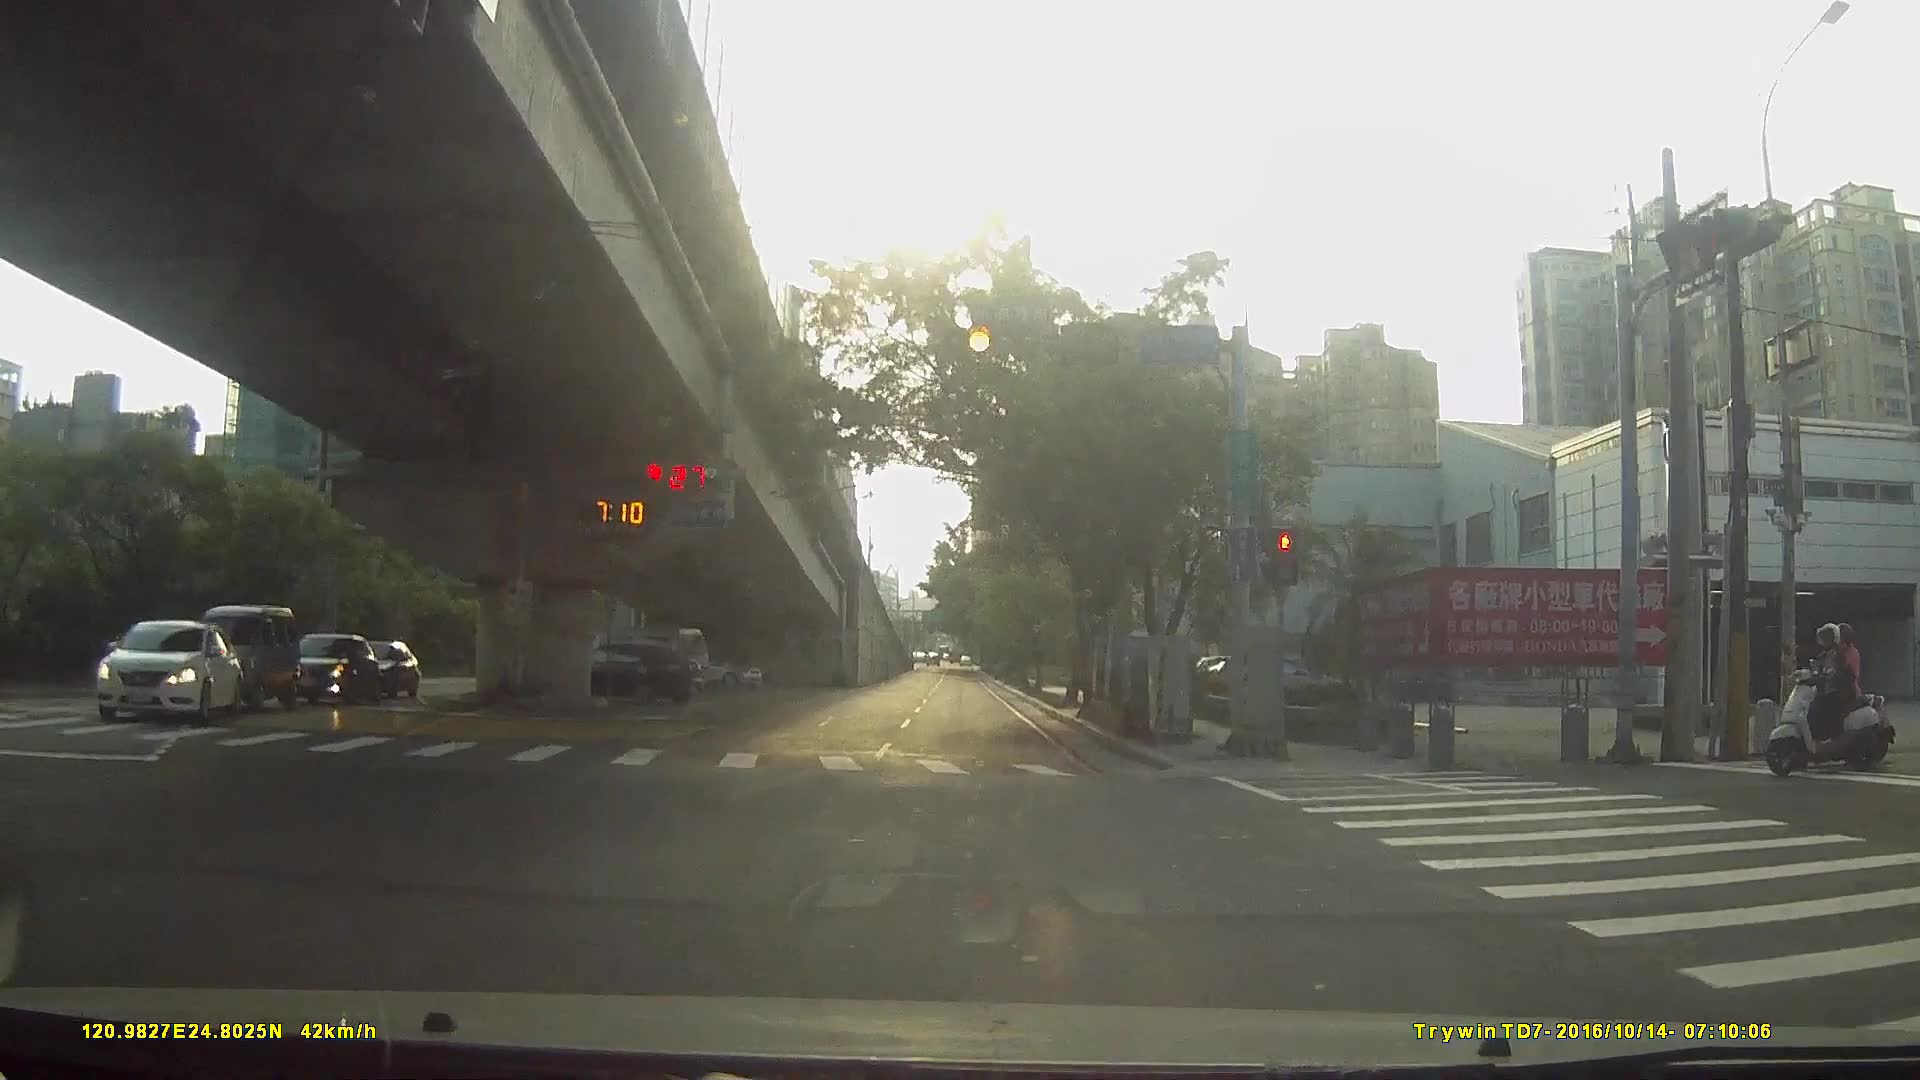rider: (1766, 627, 1892, 780)
vehicle: (82, 614, 239, 726), (191, 601, 294, 710), (545, 640, 701, 707), (272, 631, 376, 705), (337, 638, 418, 697), (667, 648, 763, 693)
